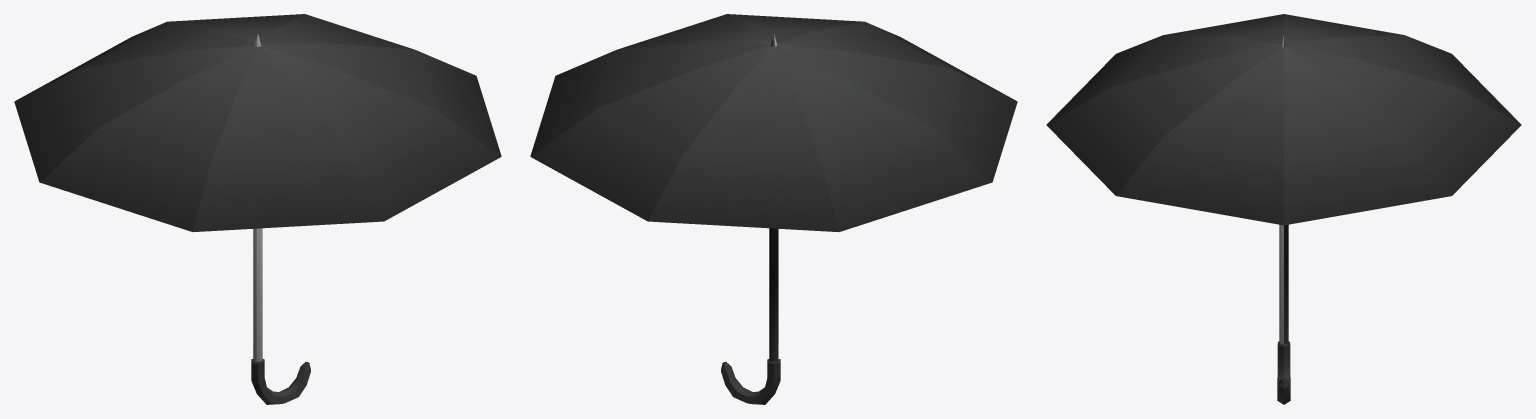
Rendered from Umbrella_Open.fbx.
The picture shows the model from 3 angles, left to right: view 1: azimuth 30°, elevation 25°; view 2: azimuth 150°, elevation 25°; view 3: azimuth 270°, elevation 25°; orthographic projection. The views are drawn at different scales.
Parts seen in each view (by area): view 1: Umbrella_Open; view 2: Umbrella_Open; view 3: Umbrella_Open.
Part boxes in pixels (bbox=[...]): Umbrella_Open: bbox=[14, 14, 501, 404]; Umbrella_Open: bbox=[530, 14, 1017, 404]; Umbrella_Open: bbox=[1046, 14, 1521, 404].
Bounding box in the file's own units: 98.18 × 80.83 × 98.18.
